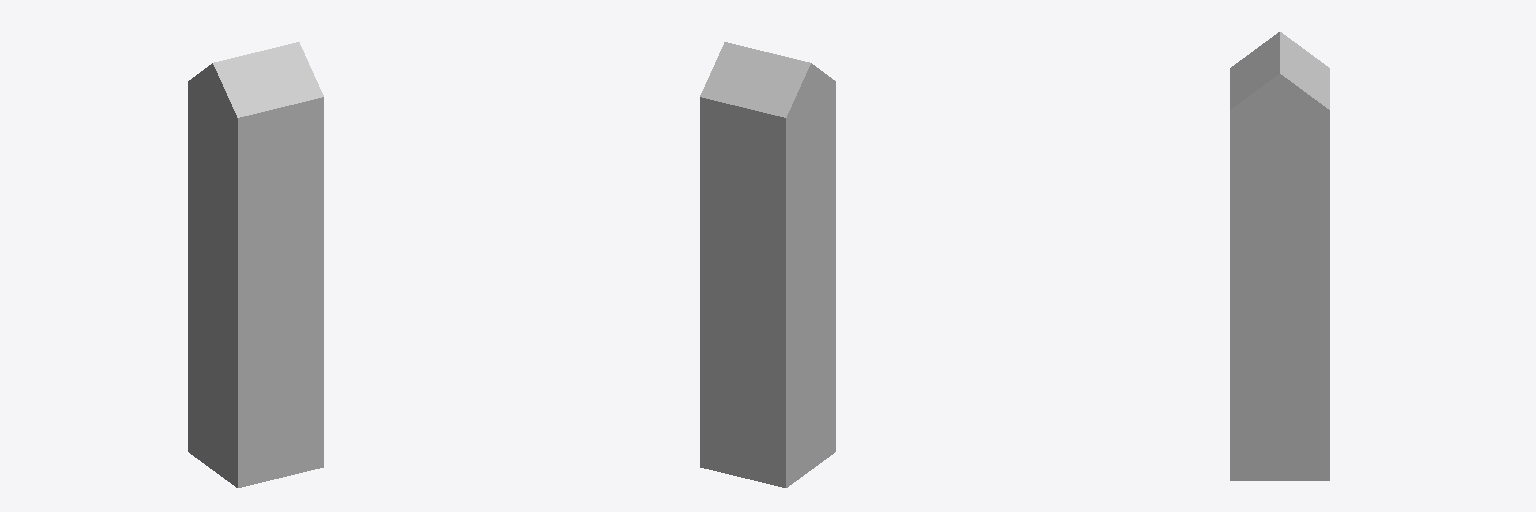
File: Projectile.obj
The picture shows the model from 3 angles: view 1: azimuth 30°, elevation 25°; view 2: azimuth 150°, elevation 25°; view 3: azimuth 270°, elevation 25°; orthographic projection.
Visible parts, largest first — view 1: Projectile; view 2: Projectile; view 3: Projectile.
Boxes of the visible parts, box(x1,y1,x2,y2) form: Projectile: box(188, 42, 323, 487); Projectile: box(700, 42, 835, 487); Projectile: box(1230, 32, 1329, 480).
Size of the model in its own units: 0.4 by 1.8 by 0.4.